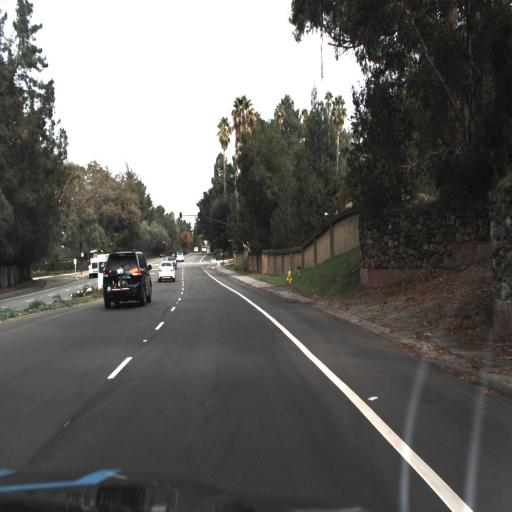car: (104, 250, 150, 308), (158, 258, 177, 286)
trafficLight-Green: (194, 210, 202, 232), (177, 209, 184, 229)
trafficLight-Red: (160, 236, 166, 249)
truck: (85, 248, 101, 281)
